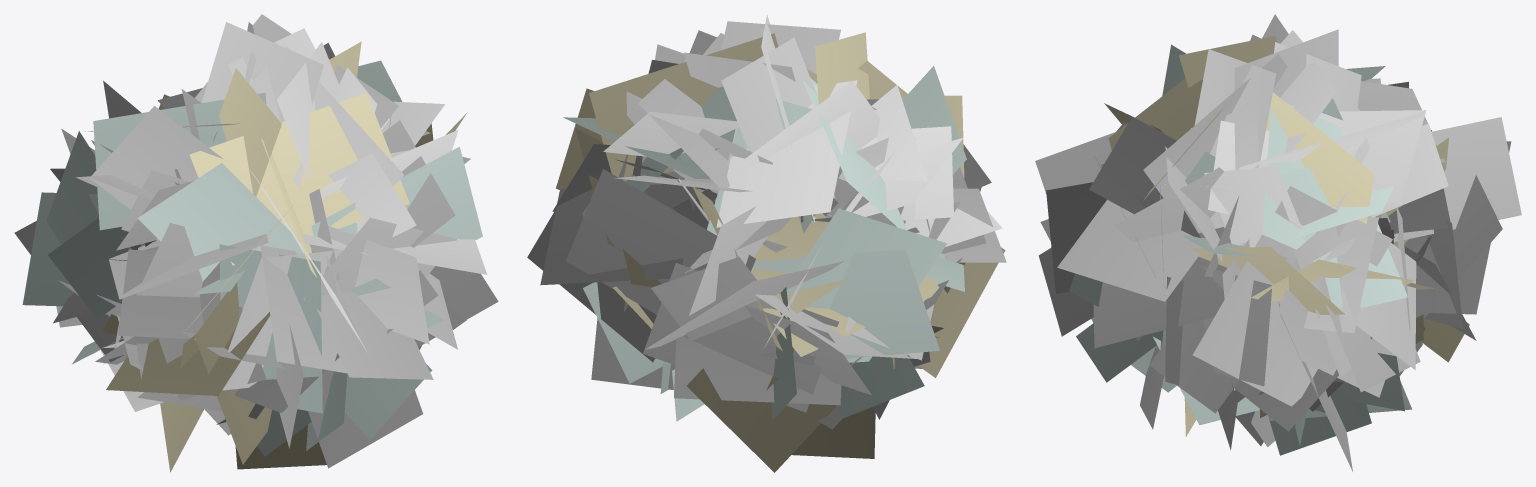
The model's file is yard-shrub.lod0.glb.
3 views of the same model, side by side, from view 1: azimuth 30°, elevation 25°; view 2: azimuth 150°, elevation 25°; view 3: azimuth 270°, elevation 25° (orthographic).
Visible parts, largest first — view 1: yard-shrub; view 2: yard-shrub; view 3: yard-shrub.
Part boxes in pixels (x1,y1,x2,y2): yard-shrub: (14,14,498,472); yard-shrub: (527,14,1006,472); yard-shrub: (1035,14,1521,471).
Size of the model in its own units: 0.5939 by 0.5641 by 0.607.
